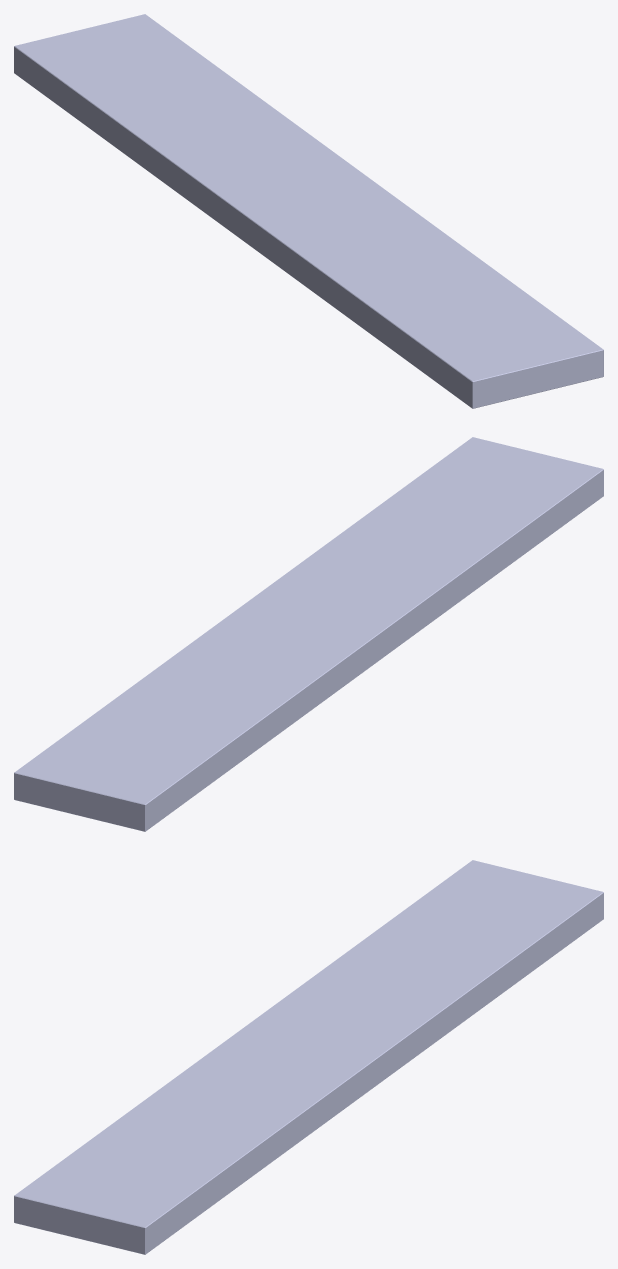
The model's file is SM_rack_1.fbx.
3 views of the same model, one above another, from view 1: azimuth 30°, elevation 25°; view 2: azimuth 150°, elevation 25°; view 3: azimuth 330°, elevation 25° (orthographic).
Parts seen in each view (by area): view 1: SM_rack_1; view 2: SM_rack_1; view 3: SM_rack_1.
Part boxes in pixels (box(x1,y1,x2,y2)): SM_rack_1: box(14, 14, 603, 408); SM_rack_1: box(14, 437, 603, 831); SM_rack_1: box(14, 860, 603, 1254).
Bounding box in the file's own units: 50 × 10 × 302.
